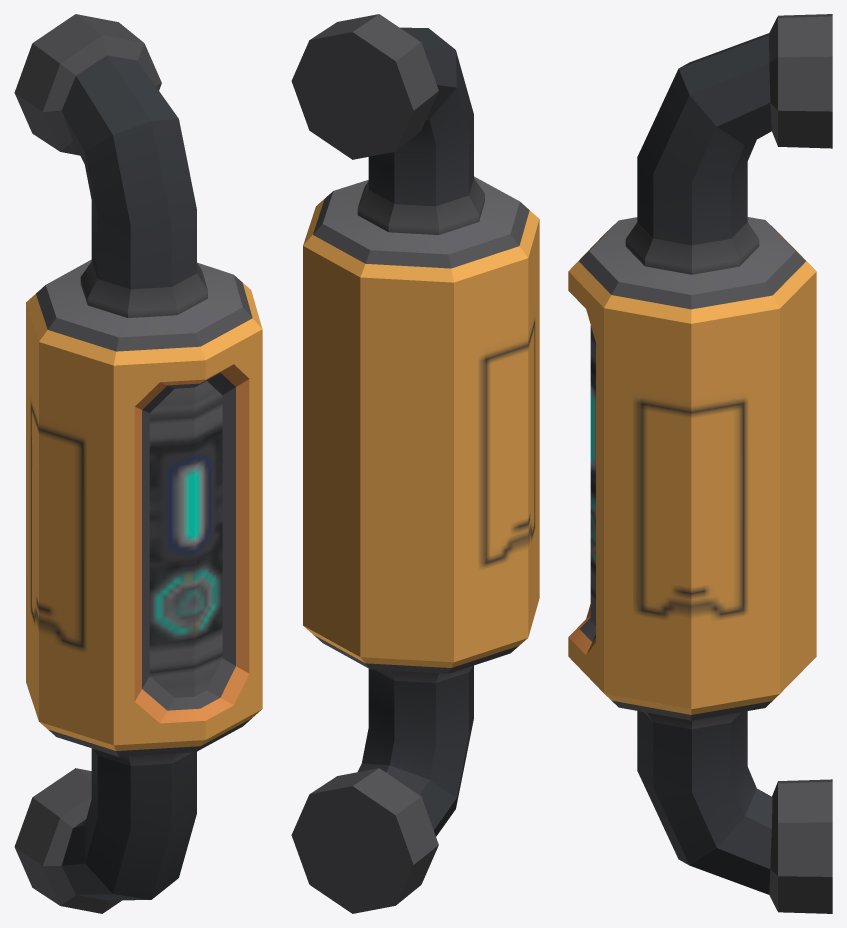
Rendered from SM_Prop_Greebles_08.fbx.
The picture shows the model from 3 angles, left to right: view 1: azimuth 30°, elevation 25°; view 2: azimuth 150°, elevation 25°; view 3: azimuth 270°, elevation 25°; orthographic projection.
Visible parts, largest first — view 1: SM_Prop_Greebles_08; view 2: SM_Prop_Greebles_08; view 3: SM_Prop_Greebles_08.
Boxes of the visible parts, <box> form: SM_Prop_Greebles_08: <box>14,14,262,913</box>; SM_Prop_Greebles_08: <box>291,14,539,913</box>; SM_Prop_Greebles_08: <box>568,14,832,913</box>.
Size of the model in its own units: 27.72 by 110 by 29.41.
